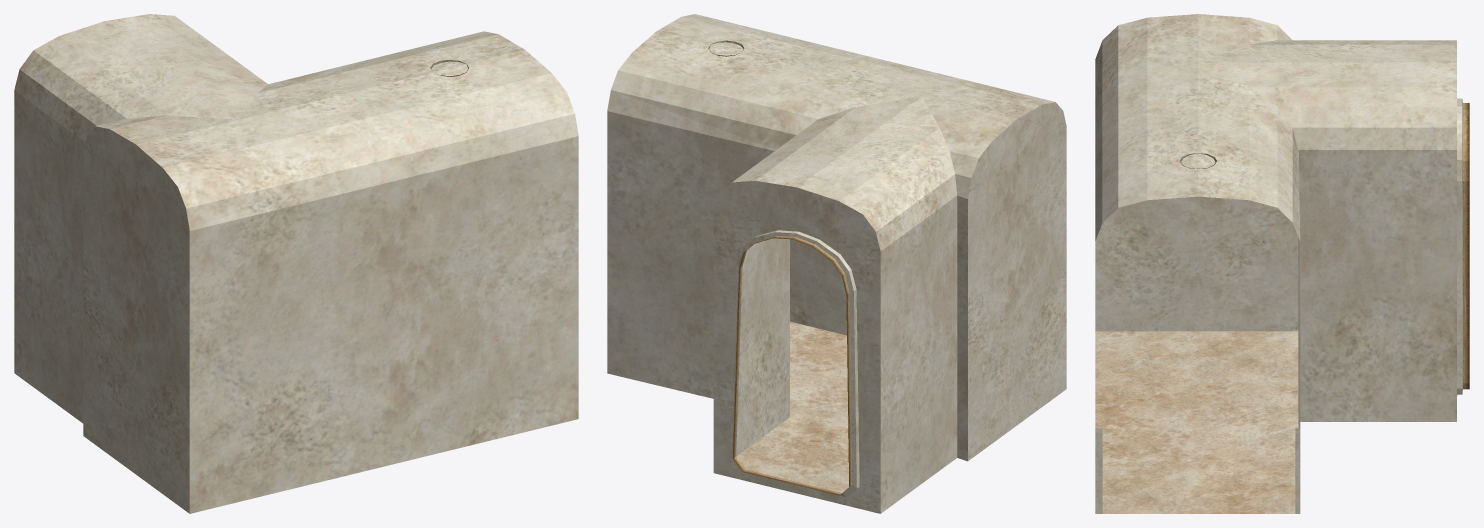
Rendered from ply_tato_house_lg_s01_fp1_r11_deckstairs_mesh_deckstairs.fbx.
3 renders of one model, left to right at view 1: azimuth 30°, elevation 25°; view 2: azimuth 150°, elevation 25°; view 3: azimuth 270°, elevation 25°, orthographic. The views are drawn at different scales.
Parts seen in each view (by area): view 1: mesh_node; view 2: mesh_node; view 3: mesh_node.
Boxes of the visible parts, bbox=[...] form: mesh_node: bbox=[14, 14, 578, 513]; mesh_node: bbox=[607, 14, 1066, 513]; mesh_node: bbox=[1095, 14, 1469, 513].
Size of the model in its own units: 4.32 by 3.5 by 3.74.
